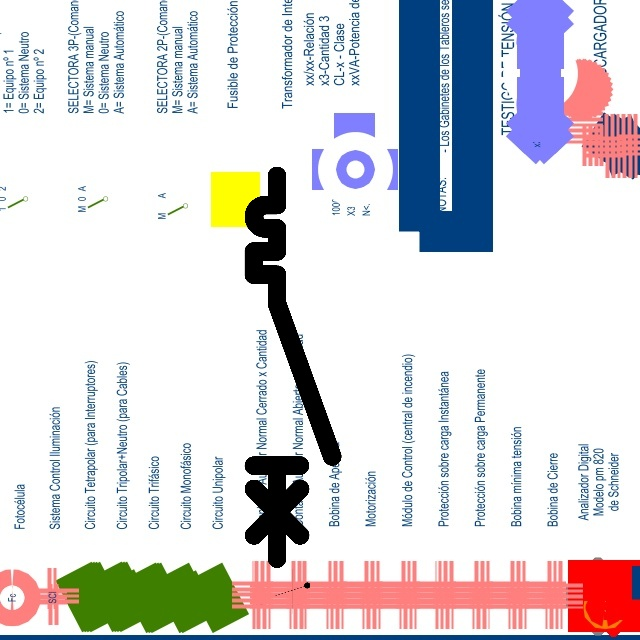interruptor_termomagnetico: (244, 166, 342, 569)
